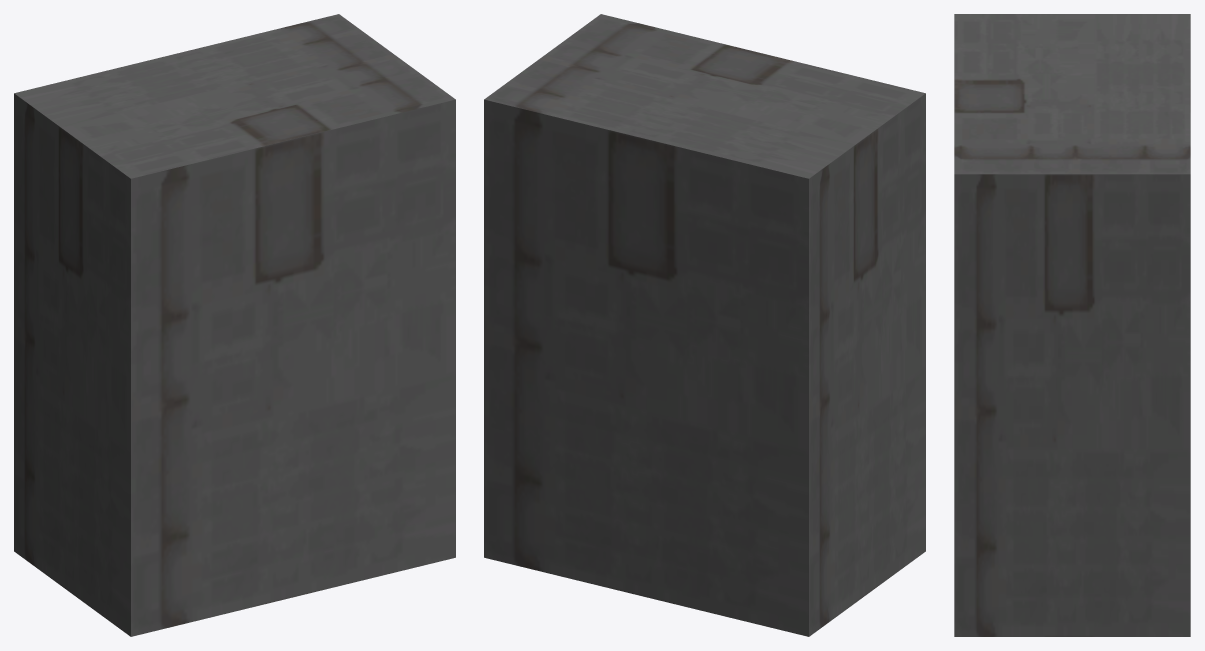
The model's file is sterilvognuren.glb.
3 renders of one model, left to right at view 1: azimuth 30°, elevation 25°; view 2: azimuth 150°, elevation 25°; view 3: azimuth 270°, elevation 25°, orthographic.
Visible parts, largest first — view 1: Cube87; view 2: Cube87; view 3: Cube87.
Part boxes in pixels (bbox=[...]): Cube87: bbox=[14, 14, 455, 636]; Cube87: bbox=[484, 14, 925, 636]; Cube87: bbox=[954, 14, 1190, 636].
Size of the model in its own units: 1.24 by 1.66 by 0.77.
Materials: 1 (1 with a texture image).
